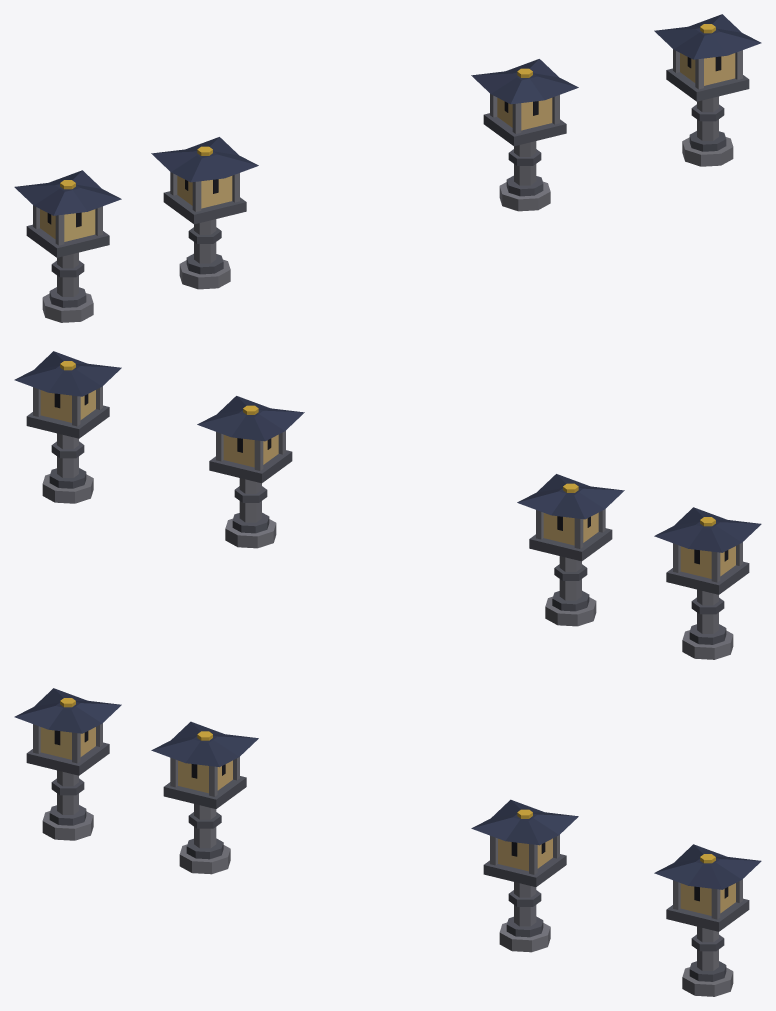
Rendered from Decor_NinjaDojo_Lanterns.fbx.
3 views of the same model, one above another, from view 1: azimuth 30°, elevation 25°; view 2: azimuth 150°, elevation 25°; view 3: azimuth 330°, elevation 25° (orthographic).
Parts seen in each view (by area): view 1: Lanterns_Body; view 2: Lanterns_Body; view 3: Lanterns_Body.
Part boxes in pixels (x1=…): Lanterns_Body: x1=14, y1=14, x2=761, y2=322; Lanterns_Body: x1=14, y1=351, x2=761, y2=659; Lanterns_Body: x1=14, y1=688, x2=761, y2=996.
Size of the model in its own units: 31 by 5.4 by 3.
